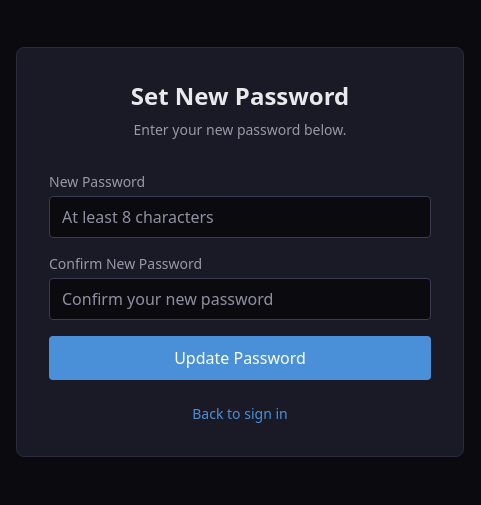
Test: ResetPasswordPage › shows error when passwords do not match
This screenshot has width=481, height=505.
Type "newpassword123" into the password field labelled "New Password". click: (240, 217)
box: left=49, top=196, right=431, bottom=238
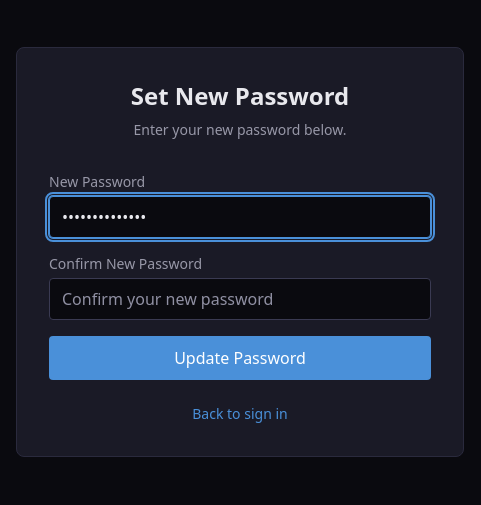
Type "differentpassword" into the password field labelled "Confirm New Password". click: (240, 299)
box: left=49, top=278, right=431, bottom=320
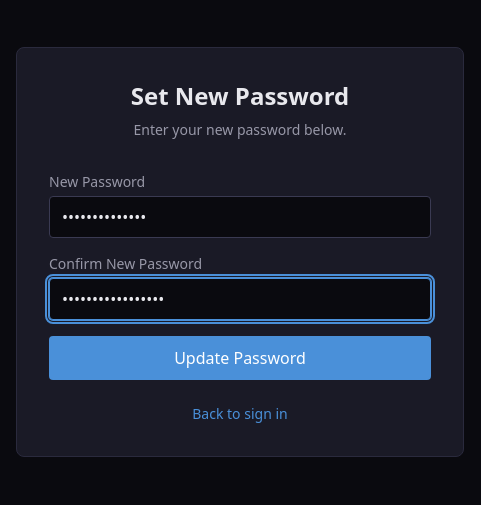
Click the button "Update Password". click: (240, 358)
box: left=49, top=336, right=431, bottom=380
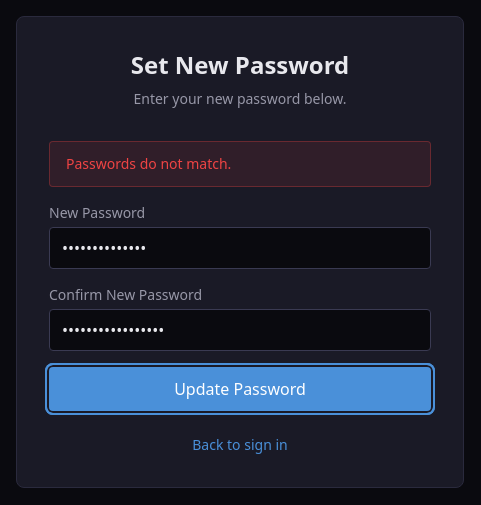
Now the text "Passwords do not match." is shown, box left=49, top=141, right=431, bottom=187
